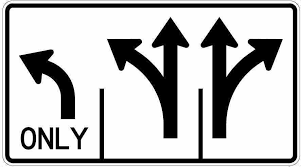Left Turn Only: (13, 47, 91, 154)
Straight or Left Turn Only: (105, 16, 191, 141)
Straight or Right Turn Only: (204, 14, 285, 141)
